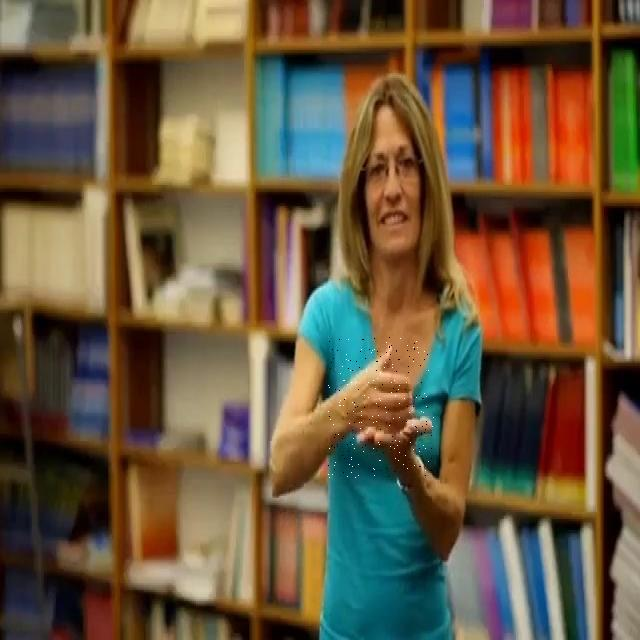cup: (328, 337, 434, 478)
